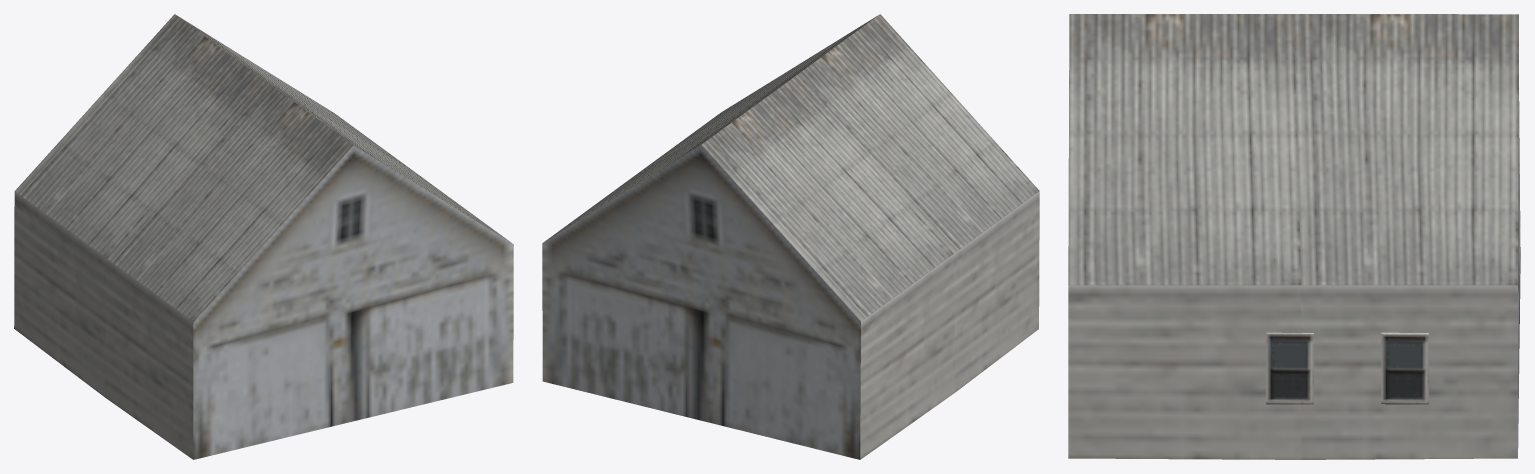
Rendered from barn03.glb.
3 renders of one model, left to right at view 1: azimuth 30°, elevation 25°; view 2: azimuth 150°, elevation 25°; view 3: azimuth 270°, elevation 25°, orthographic. The views are drawn at different scales.
Parts seen in each view (by area): view 1: barn03_elements_0; view 2: barn03_elements_0; view 3: barn03_elements_0.
Part boxes in pixels (x1,y1,x2,y2): barn03_elements_0: [14, 14, 513, 459]; barn03_elements_0: [542, 14, 1039, 459]; barn03_elements_0: [1068, 14, 1520, 459].
Size of the model in its own units: 6.85 by 5.56 by 6.58.
1 material, 1 textured.
